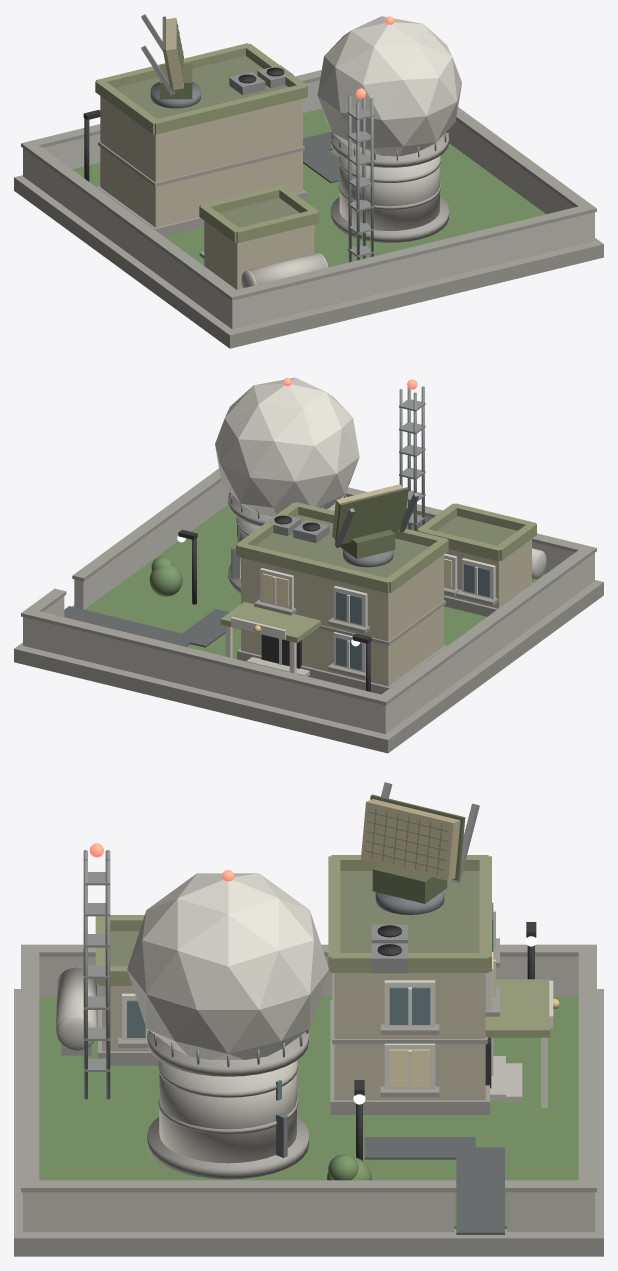
The model's file is radar_4.glb.
The picture shows the model from 3 angles, top to bottom: view 1: azimuth 30°, elevation 25°; view 2: azimuth 150°, elevation 25°; view 3: azimuth 270°, elevation 25°; orthographic projection. The views are drawn at different scales.
Parts seen in each view (by area): view 1: Cube.006, Icosphere, Cube, Cube.091, Cube.001, Cube.093, Cylinder.001, Cube.061, Cube.092, Cube.029, Cube.097, Cube.094 (+25 smaller); view 2: Icosphere, Cube, Cube.006, Cube.089, Cube.001, Cube.093, Cube.097, Cube.090, Cube.094, Cube.029, Cube.044, Cube.031 (+33 smaller); view 3: Cube.001, Icosphere, Cube, Cube.097, Cube.006, Cylinder.001, Cube.029, Cube.098, Cube.043, Cube.090, Cube.092, Cube.002 (+34 smaller).
Boxes of the visible parts, x1,y1,x2,y2 form: Cube.006: [100, 96, 302, 227]; Icosphere: [317, 16, 461, 156]; Cube: [14, 175, 603, 348]; Cube.091: [227, 212, 594, 329]; Cube.001: [72, 108, 545, 267]; Cube.093: [25, 150, 229, 326]; Cylinder.001: [339, 156, 439, 230]; Cube.061: [204, 221, 314, 289]; Cube.092: [229, 205, 596, 300]; Cube.029: [115, 56, 288, 119]; Cube.097: [447, 120, 574, 214]; Cube.094: [23, 143, 236, 298]; Icosphere: [215, 377, 359, 516]; Cube: [14, 580, 603, 753]; Cube.006: [241, 554, 443, 686]; Cube.089: [23, 617, 388, 733]; Cube.001: [85, 504, 545, 659]; Cube.093: [388, 555, 591, 731]; Cube.097: [74, 481, 229, 609]; Cube.090: [21, 608, 392, 705]; Cube.094: [381, 550, 594, 700]; Cube.029: [256, 514, 428, 577]; Cube.044: [335, 487, 408, 544]; Cube.031: [237, 542, 391, 593]; Cube.001: [39, 996, 578, 1228]; Icosphere: [127, 873, 328, 1059]; Cube: [14, 989, 603, 1256]; Cube.097: [30, 1192, 454, 1231]; Cube.006: [334, 973, 485, 1100]; Cylinder.001: [159, 1060, 296, 1163]; Cube.029: [340, 871, 479, 952]; Cube.098: [28, 1180, 456, 1192]; Cube.043: [361, 799, 460, 880]; Cube.090: [578, 944, 596, 1192]; Cube.092: [21, 944, 39, 1192]; Cube.002: [456, 1147, 504, 1234].
Bounding box in the file's own units: 2.92 × 1.62 × 2.92.
